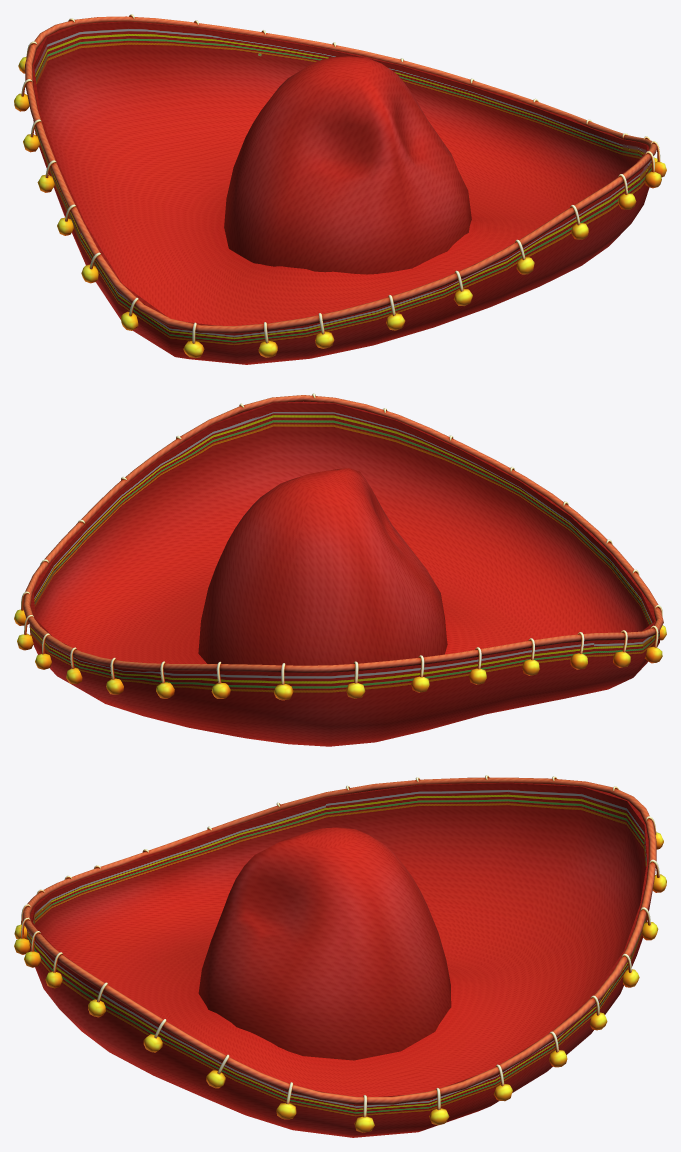
The model's file is Mexican_Hat.glb.
3 views of the same model, one above another, from view 1: azimuth 30°, elevation 25°; view 2: azimuth 150°, elevation 25°; view 3: azimuth 270°, elevation 25° (orthographic).
Visible parts, largest first — view 1: Mexican_Hat; view 2: Mexican_Hat; view 3: Mexican_Hat.
Boxes of the visible parts, bbox=[...] form: Mexican_Hat: bbox=[14, 14, 666, 364]; Mexican_Hat: bbox=[14, 393, 666, 746]; Mexican_Hat: bbox=[14, 775, 666, 1137].
Bounding box in the file's own units: 1.08 × 0.3527 × 1.08.
1 material, 1 textured.
